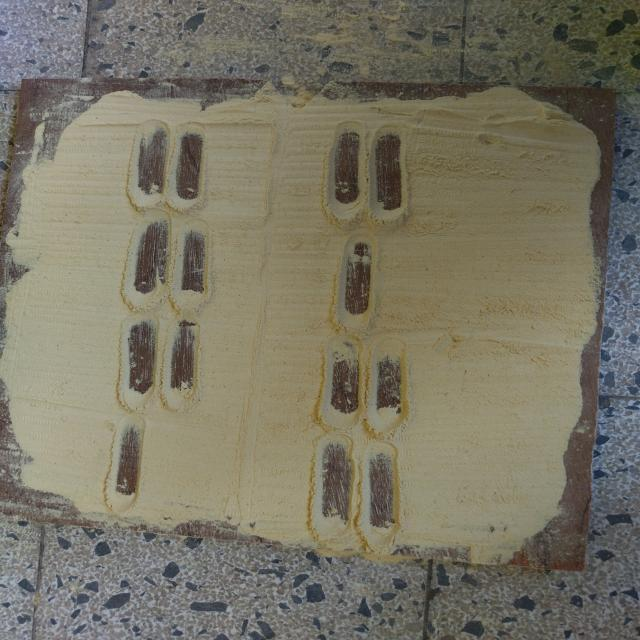double: (308, 434, 406, 559), (316, 117, 414, 230), (314, 335, 416, 437), (119, 213, 220, 316), (122, 116, 215, 214), (116, 317, 207, 417)
single: (330, 226, 382, 340), (101, 411, 151, 519)
